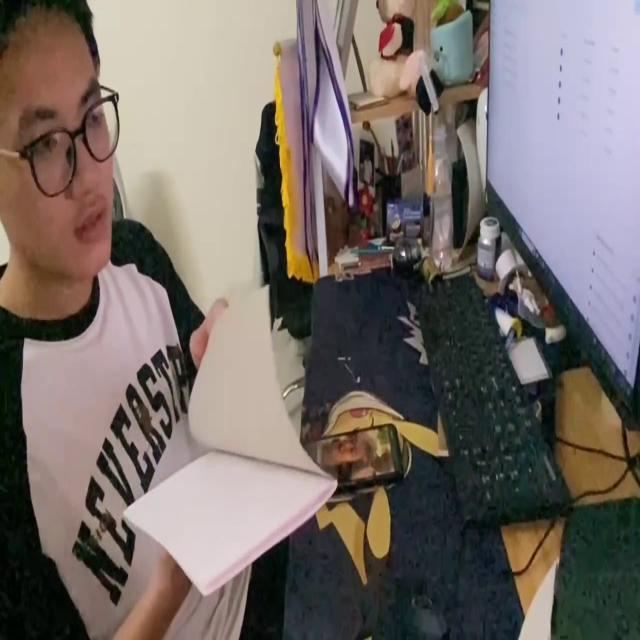book: (114, 277, 338, 596)
laptop: (482, 0, 640, 432)
phone: (299, 417, 406, 499)
student: (0, 2, 250, 640)
